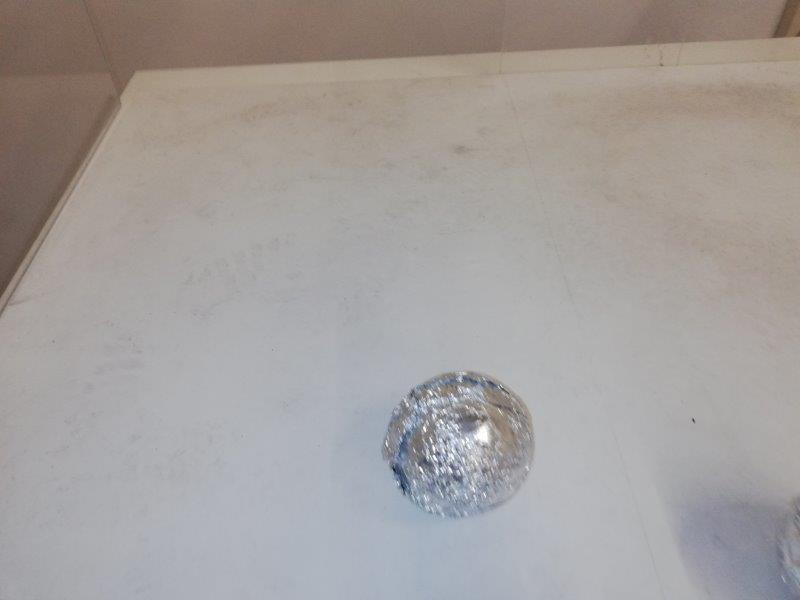bianca: (381, 369, 536, 518)
